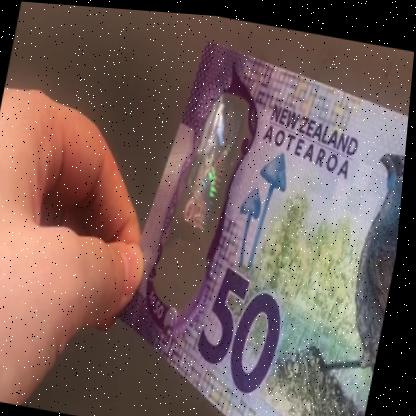50B: (169, 88, 249, 301)
